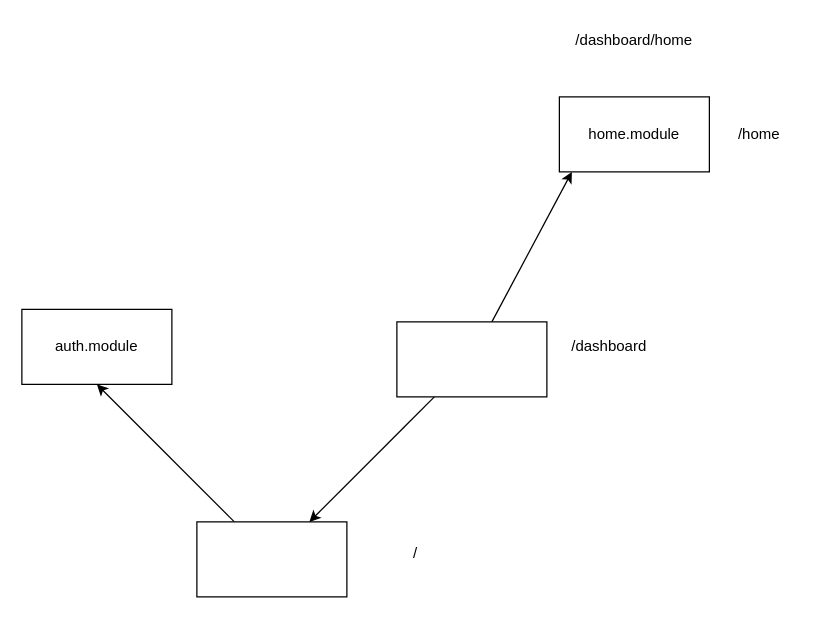
This 819x619 diagram has some shape labels left out. Here are the shapes that lost their labels. From the top down, the centre of each, then its label:
(471,359): dashboard.module
(271,559): app.module
